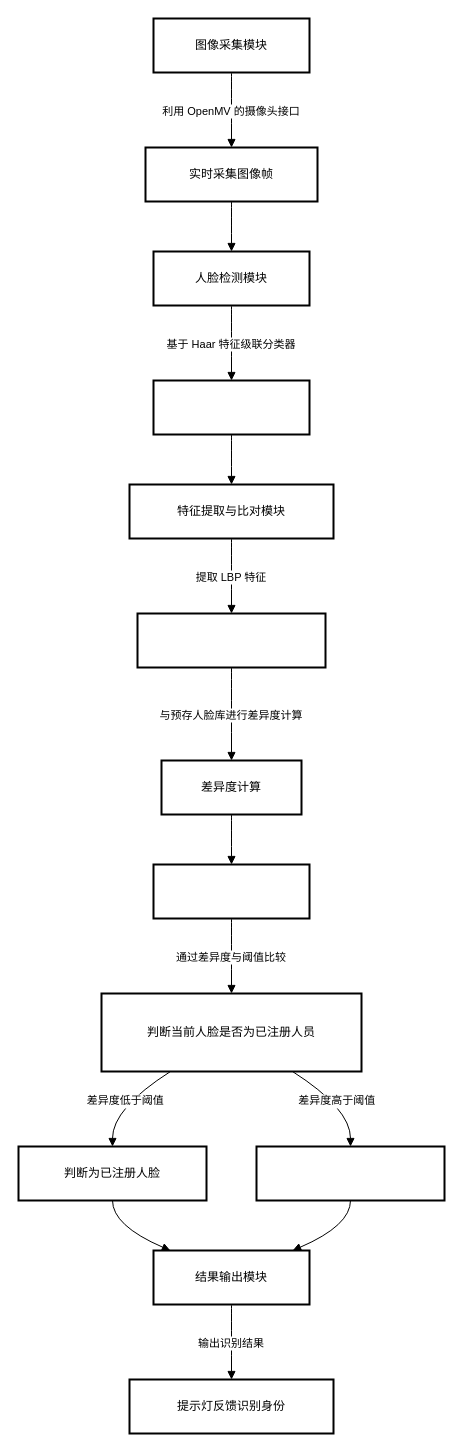
This 462x1451 diagram has some shape labels left out. Here are the shapes that lost their labels. From the top down, the centre of each, then its label:
point 231,407: 人脸区域定位
point 231,640: 检测到的人脸区域
point 231,891: 身份识别模块
point 350,1173: 判断为未注册人脸
